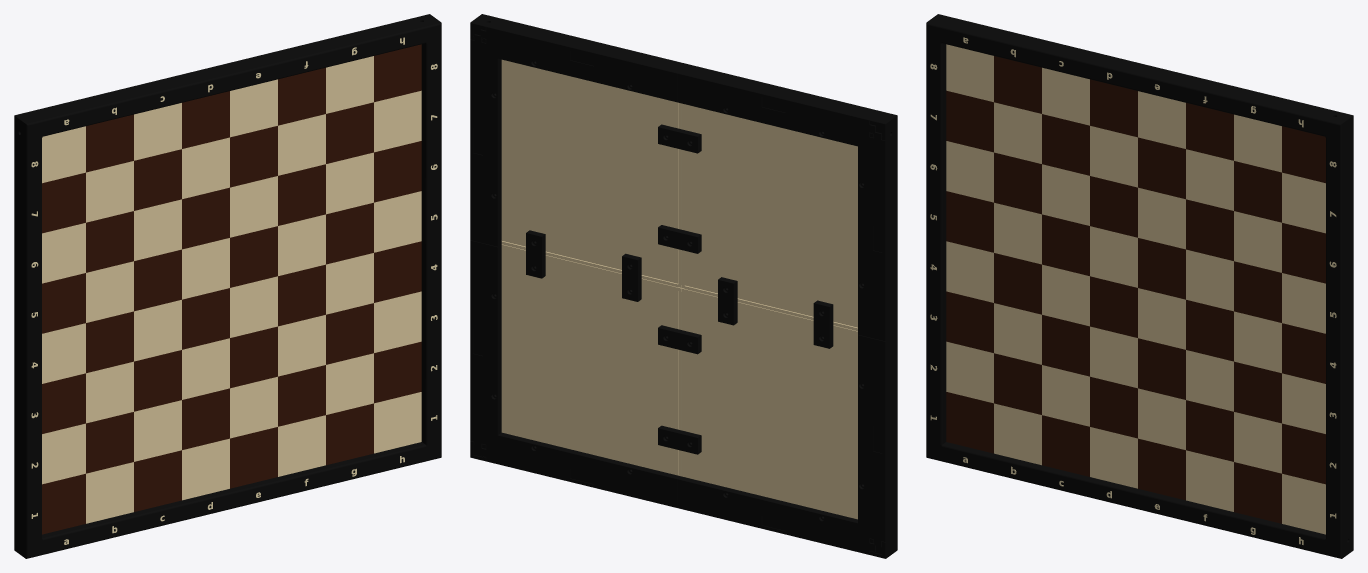
The model's file is .chessboard_assembly.step.glb.
3 renders of one model, left to right at view 1: azimuth 30°, elevation 25°; view 2: azimuth 150°, elevation 25°; view 3: azimuth 330°, elevation 25°, orthographic.
Parts seen in each view (by area): view 1: o1.2.1, o1.4.1, o1.1.1, o1.3.1, o1.9.1, o1.10.1, o1.7.1, o1.8.1, o1.11.1, o1.12.1, o1.6.1, o1.5.1 (+33 smaller); view 2: o1.1.1, o1.2.1, o1.3.1, o1.4.1, o1.7.1, o1.8.1, o1.10.1, o1.9.1, o1.6.1, o1.5.1, o1.11.1, o1.12.1 (+9 smaller); view 3: o1.1.1, o1.3.1, o1.2.1, o1.4.1, o1.11.1, o1.12.1, o1.8.1, o1.7.1, o1.9.1, o1.10.1, o1.5.1, o1.6.1 (+33 smaller).
Part boxes in pixels (bbox=[...]): o1.2.1: bbox=[230, 253, 421, 476]; o1.4.1: bbox=[230, 56, 421, 275]; o1.1.1: bbox=[42, 300, 229, 523]; o1.3.1: bbox=[42, 103, 229, 322]; o1.9.1: bbox=[14, 333, 41, 542]; o1.10.1: bbox=[14, 132, 41, 341]; o1.7.1: bbox=[30, 65, 234, 136]; o1.8.1: bbox=[222, 18, 426, 89]; o1.11.1: bbox=[421, 241, 441, 444]; o1.12.1: bbox=[421, 40, 441, 244]; o1.6.1: bbox=[230, 442, 426, 507]; o1.5.1: bbox=[42, 489, 234, 554]; o1.1.1: bbox=[678, 285, 857, 519]; o1.2.1: bbox=[501, 241, 681, 475]; o1.3.1: bbox=[678, 103, 857, 327]; o1.4.1: bbox=[501, 59, 681, 287]; o1.7.1: bbox=[678, 64, 881, 148]; o1.8.1: bbox=[480, 18, 689, 102]; o1.10.1: bbox=[858, 132, 897, 341]; o1.9.1: bbox=[858, 333, 897, 546]; o1.6.1: bbox=[480, 432, 681, 507]; o1.5.1: bbox=[678, 476, 875, 554]; o1.11.1: bbox=[470, 240, 501, 449]; o1.12.1: bbox=[470, 34, 501, 246]; o1.1.1: bbox=[946, 241, 1137, 488]; o1.3.1: bbox=[946, 44, 1137, 287]; o1.2.1: bbox=[1138, 288, 1325, 534]; o1.4.1: bbox=[1138, 91, 1325, 333]; o1.11.1: bbox=[1326, 333, 1353, 542]; o1.12.1: bbox=[1326, 132, 1353, 341]; o1.8.1: bbox=[1133, 65, 1337, 136]; o1.7.1: bbox=[941, 18, 1145, 89]; o1.9.1: bbox=[926, 241, 946, 444]; o1.10.1: bbox=[926, 40, 946, 244]; o1.5.1: bbox=[941, 442, 1137, 507]; o1.6.1: bbox=[1133, 489, 1325, 554].
Size of the model in its own units: 0.52 by 0.52 by 0.0276.
